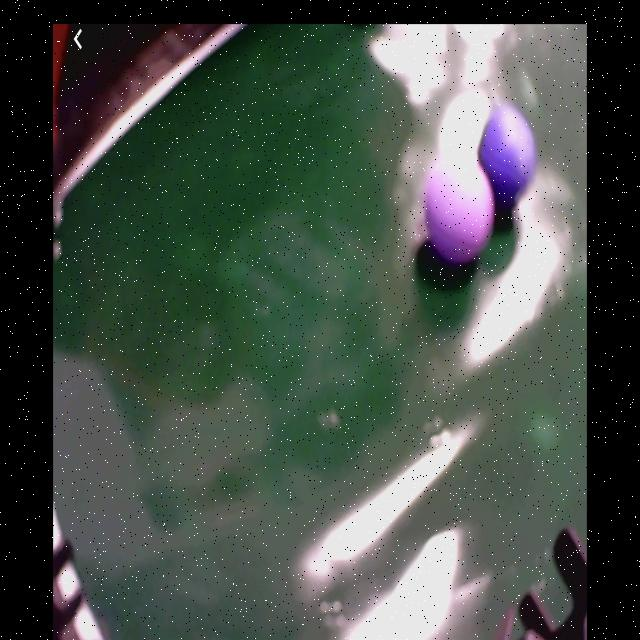ball: (425, 158, 496, 264), (480, 109, 537, 213)
